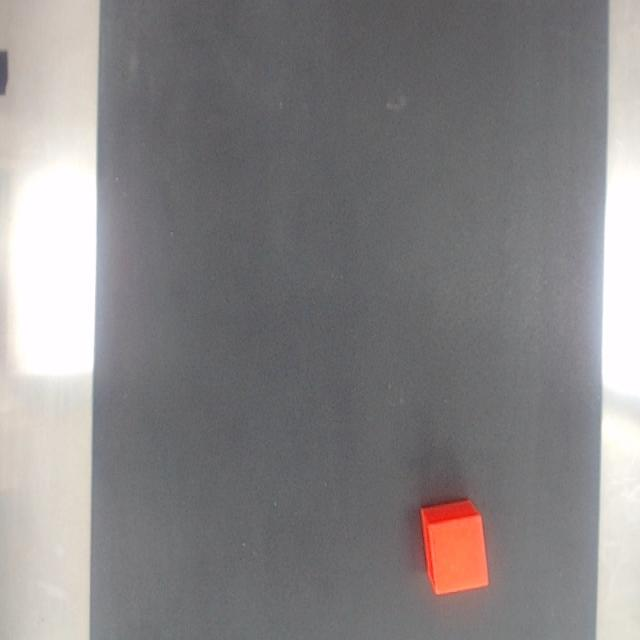Rojo: (419, 500, 489, 595)
